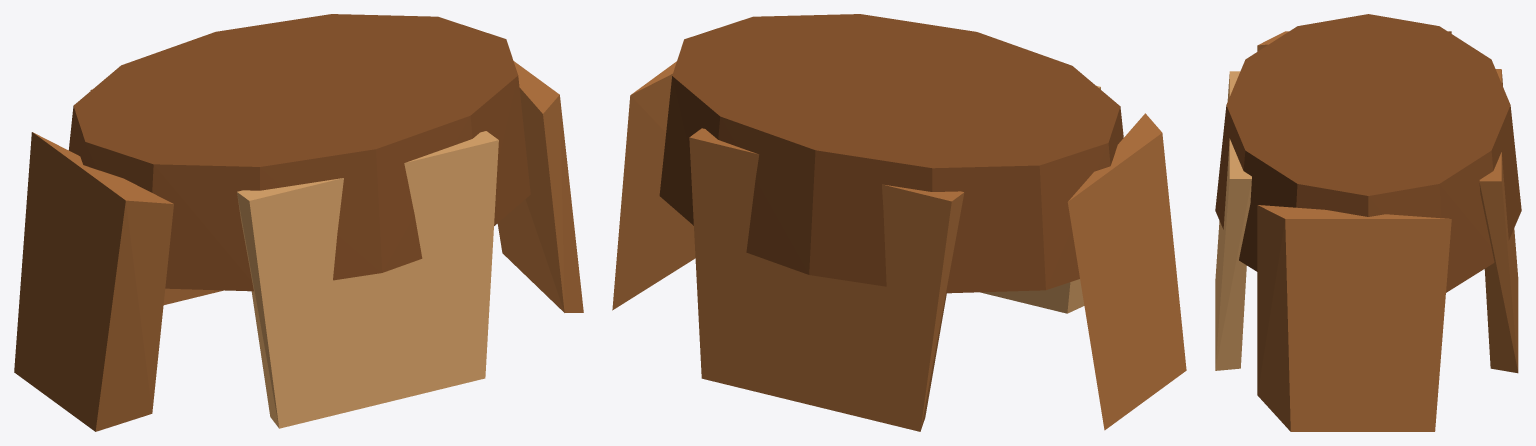
File: gear_bronze_legs_hips_m.glb
3 views of the same model, side by side, from view 1: azimuth 30°, elevation 25°; view 2: azimuth 150°, elevation 25°; view 3: azimuth 270°, elevation 25° (orthographic). The views are drawn at different scales.
Parts seen in each view (by area): view 1: gear_bronze_legs_hips_m; view 2: gear_bronze_legs_hips_m; view 3: gear_bronze_legs_hips_m.
Part boxes in pixels (<box>): gear_bronze_legs_hips_m: <box>14,14,583,431</box>; gear_bronze_legs_hips_m: <box>612,14,1186,431</box>; gear_bronze_legs_hips_m: <box>1215,14,1521,431</box>.
Size of the model in its own units: 0.45 by 0.22 by 0.276.
